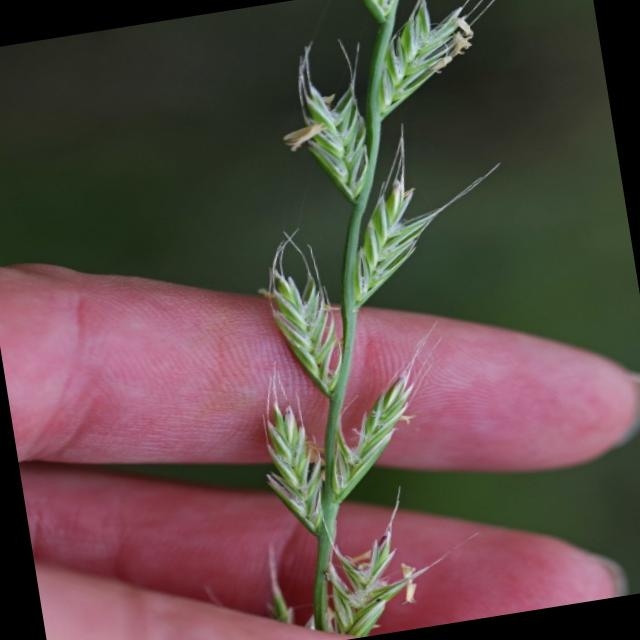Lolium: (174, 0, 617, 640)
